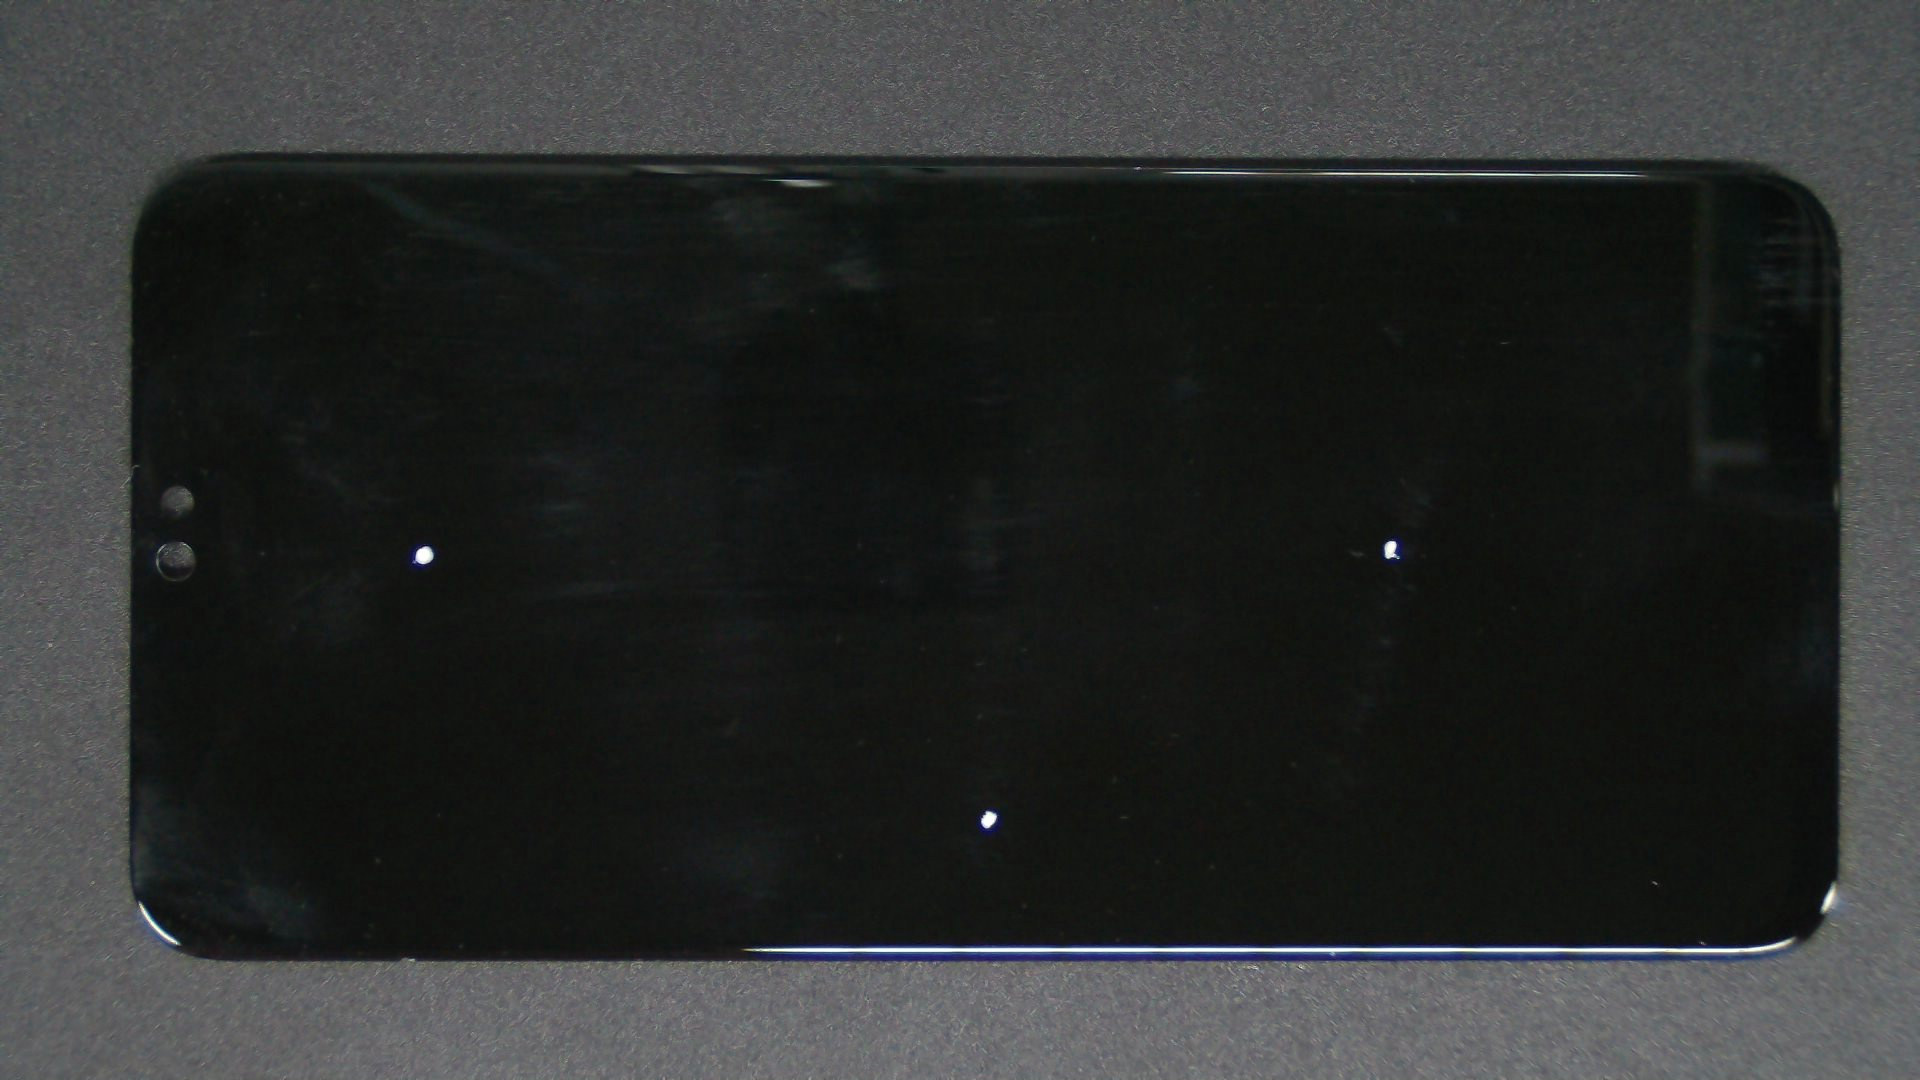oil: (495, 404, 1484, 1080), (696, 269, 1920, 808), (214, 272, 640, 818)
